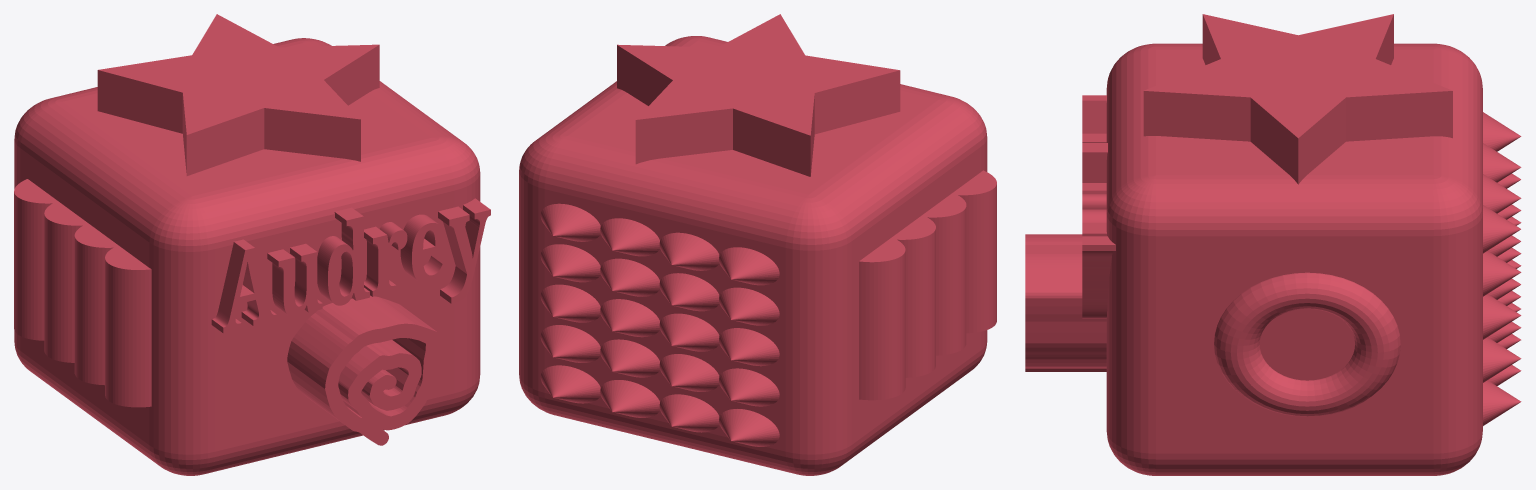
Rendered from Audrey-fidget-medal.glb.
3 views of the same model, side by side, from view 1: azimuth 30°, elevation 25°; view 2: azimuth 150°, elevation 25°; view 3: azimuth 270°, elevation 25° (orthographic). The views are drawn at different scales.
Parts seen in each view (by area): view 1: Mesh_Mesh_head_geo.001_lambert2SG.001; view 2: Mesh_Mesh_head_geo.001_lambert2SG.001; view 3: Mesh_Mesh_head_geo.001_lambert2SG.001.
Part boxes in pixels (box(x1,y1,x2,y2)): Mesh_Mesh_head_geo.001_lambert2SG.001: box(14, 14, 490, 475); Mesh_Mesh_head_geo.001_lambert2SG.001: box(519, 14, 996, 475); Mesh_Mesh_head_geo.001_lambert2SG.001: box(1025, 14, 1521, 475).
Bounding box in the file's own units: 0.056 × 0.046 × 0.061.
